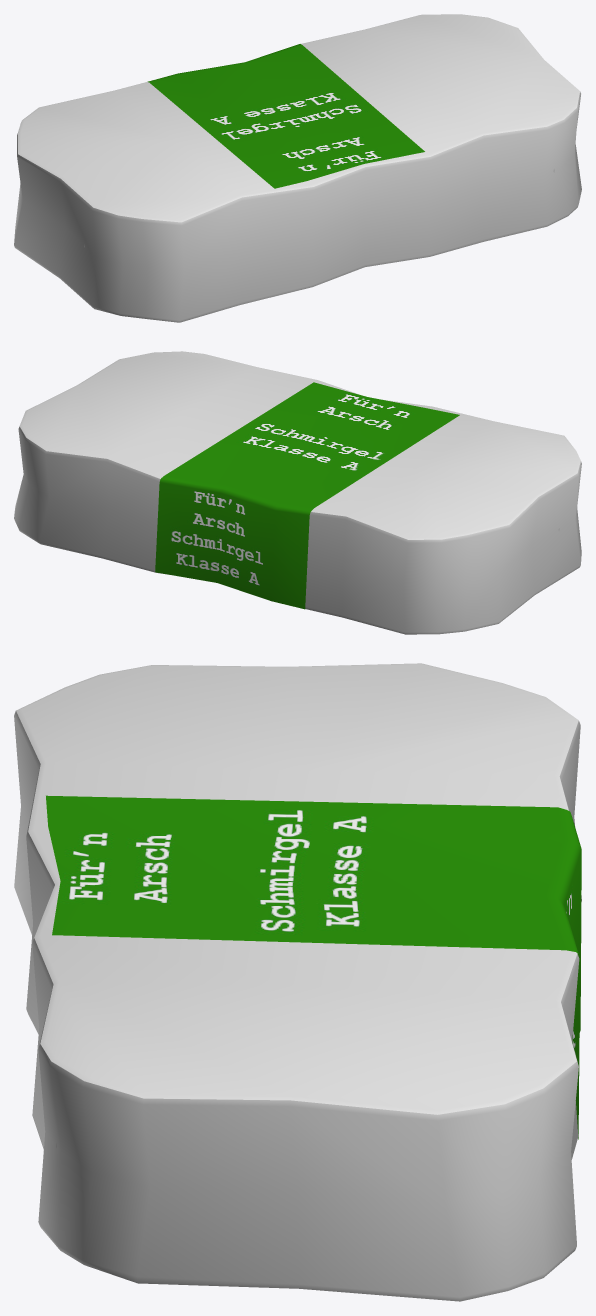
The model's file is KlorollenPackung.FBX.
3 renders of one model, top to bottom at view 1: azimuth 30°, elevation 25°; view 2: azimuth 150°, elevation 25°; view 3: azimuth 270°, elevation 25°, orthographic. The views are drawn at different scales.
Parts seen in each view (by area): view 1: TRANSPARENT_Plastik, KloRollenVerpackung; view 2: TRANSPARENT_Plastik, KloRollenVerpackung; view 3: TRANSPARENT_Plastik, KloRollenVerpackung.
Part boxes in pixels (<box>): TRANSPARENT_Plastik: <box>14,14,581,322</box>; KloRollenVerpackung: <box>147,44,424,188</box>; TRANSPARENT_Plastik: <box>14,351,581,634</box>; KloRollenVerpackung: <box>155,382,459,609</box>; TRANSPARENT_Plastik: <box>14,663,581,1301</box>; KloRollenVerpackung: <box>46,795,581,1139</box>.
Bounding box in the file's own units: 162 × 84.95 × 33.6.
